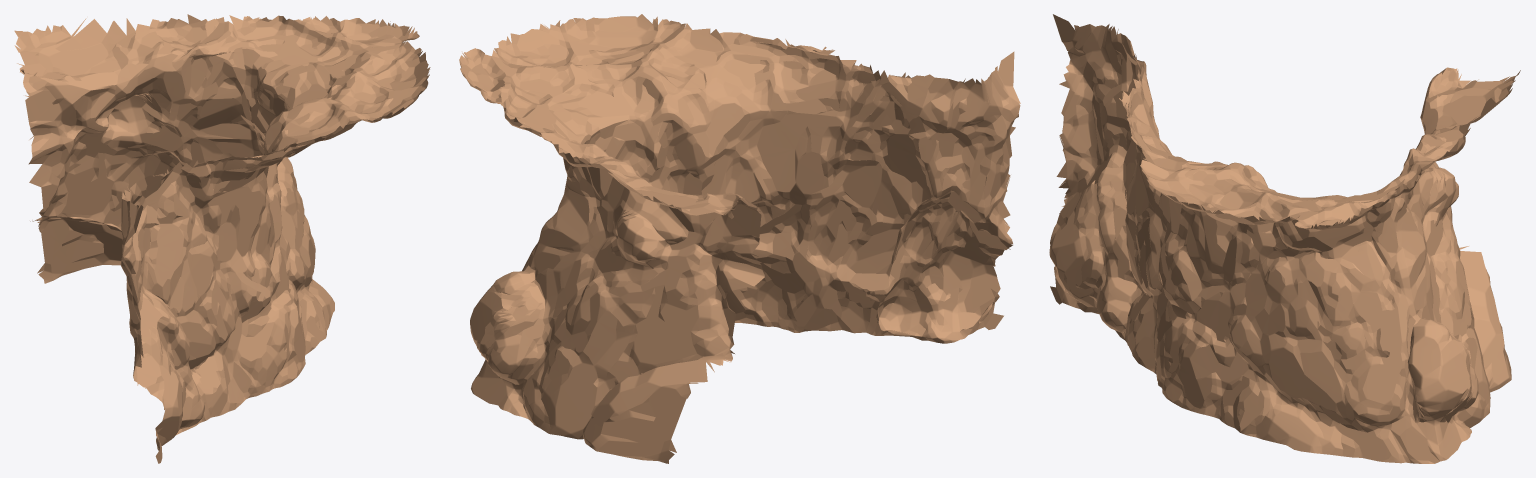
File: SandstoneBig_Mesh_40_001LODs.fbx
3 renders of one model, left to right at view 1: azimuth 30°, elevation 25°; view 2: azimuth 150°, elevation 25°; view 3: azimuth 270°, elevation 25°, orthographic. The views are drawn at different scales.
Visible parts, largest first — view 1: Mesh_40.001_LOD0; view 2: Mesh_40.001_LOD0; view 3: Mesh_40.001_LOD0.
Boxes of the visible parts, box(x1,y1,x2,y2) form: Mesh_40.001_LOD0: box(14, 14, 430, 463); Mesh_40.001_LOD0: box(459, 14, 1020, 463); Mesh_40.001_LOD0: box(1049, 14, 1520, 463).
Size of what is drawn, in the model's own units: 11248 by 7010 by 10627.
